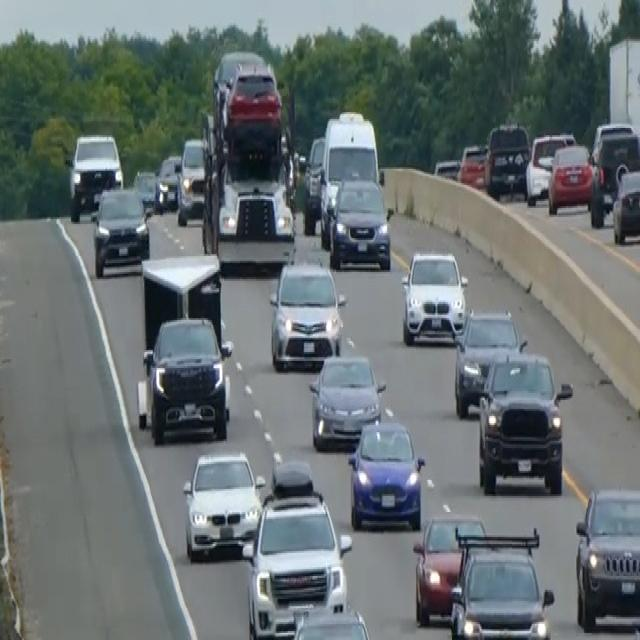car: (241, 459, 352, 638), (137, 313, 233, 443), (448, 528, 554, 638), (573, 484, 639, 631), (181, 448, 265, 562), (347, 416, 425, 532), (268, 258, 346, 370), (412, 512, 485, 626), (452, 306, 525, 418), (308, 350, 386, 450), (399, 247, 468, 345), (222, 62, 283, 167), (327, 174, 391, 270), (91, 183, 150, 277), (64, 130, 123, 220), (589, 124, 639, 226), (524, 130, 575, 206), (484, 119, 530, 199), (546, 141, 594, 215), (285, 603, 379, 638), (175, 135, 208, 226), (302, 133, 326, 231), (611, 162, 639, 244), (154, 153, 181, 211), (457, 140, 488, 190), (132, 167, 157, 213), (433, 156, 460, 182)
jeep: (475, 347, 573, 496)
lorry: (200, 48, 299, 272)
minibus: (318, 108, 381, 245)
